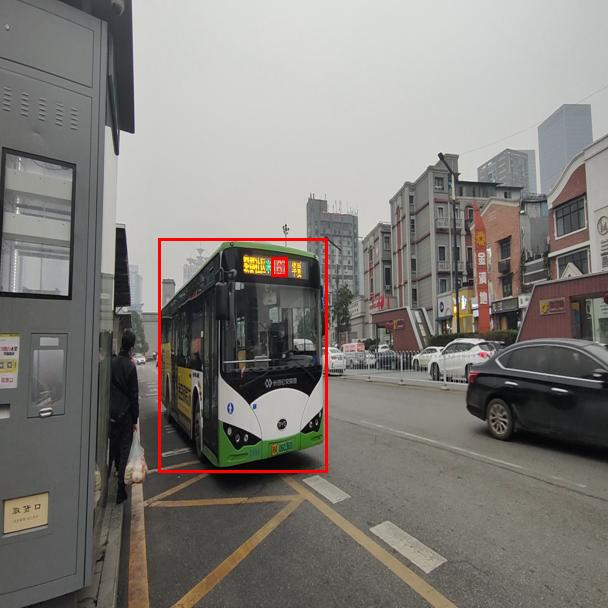bus: (158, 238, 327, 472)
screen: (271, 257, 287, 276)
